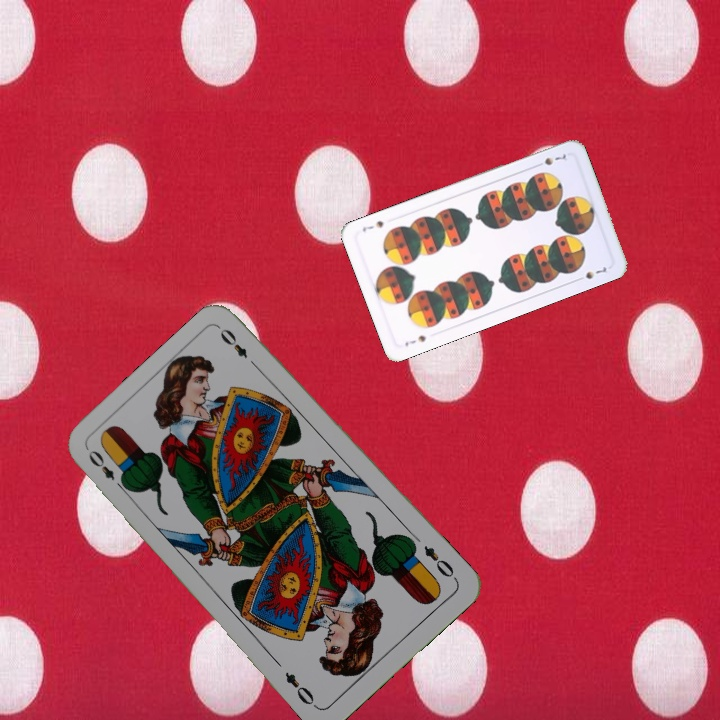EO: (84, 446, 129, 494), (419, 541, 460, 583)
S7: (531, 150, 569, 170), (401, 331, 429, 349)
